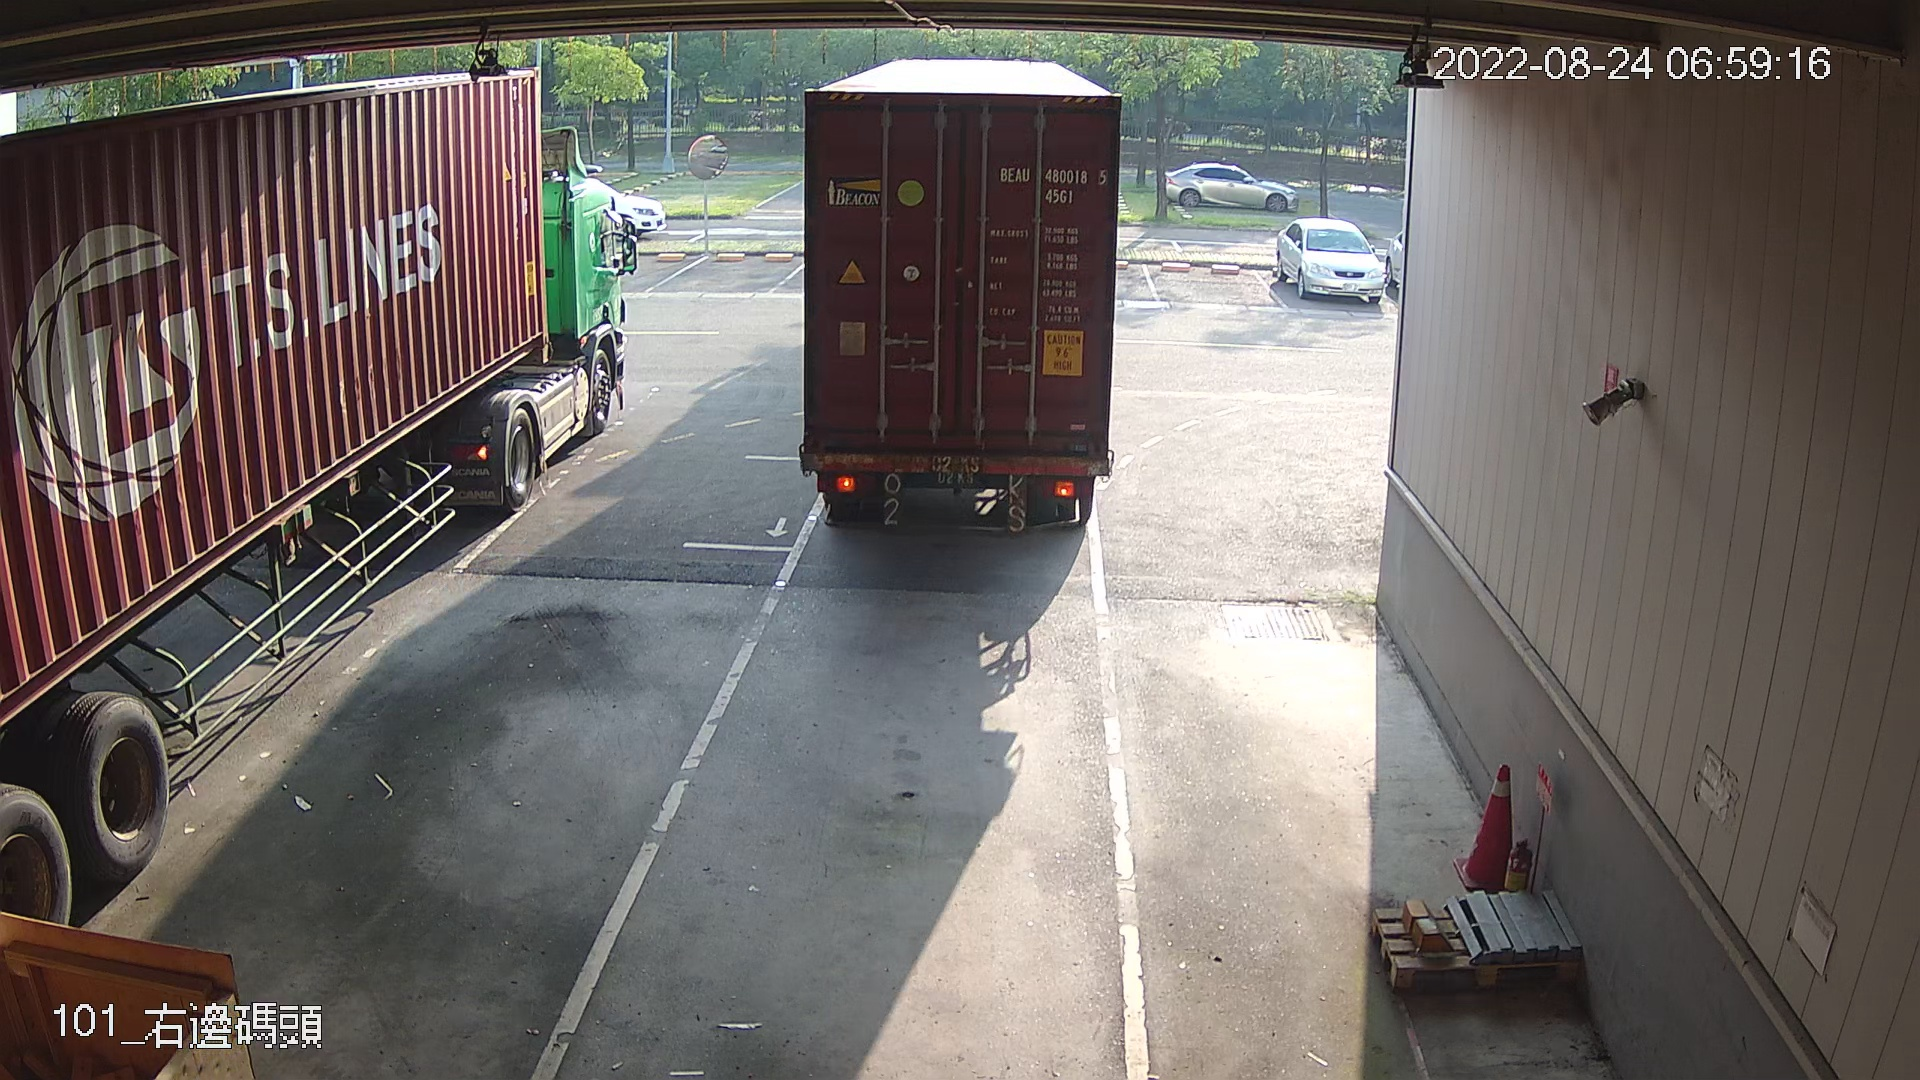container: (994, 157, 1109, 208)
